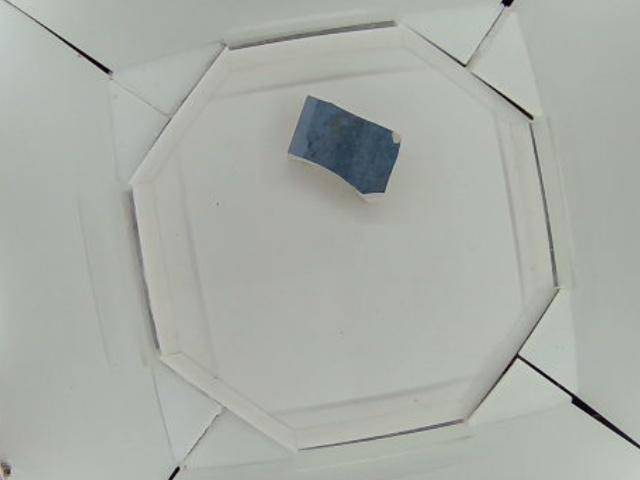China: (288, 93, 403, 197)
